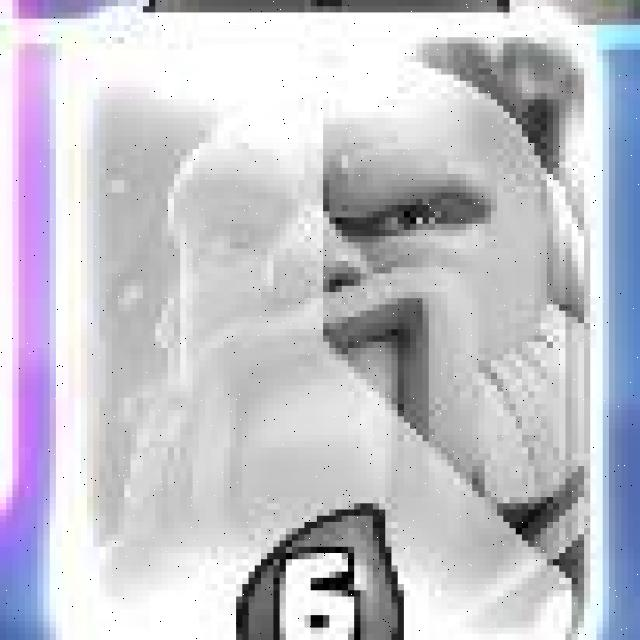Evolved_Royal_Giant: (63, 22, 604, 640)
